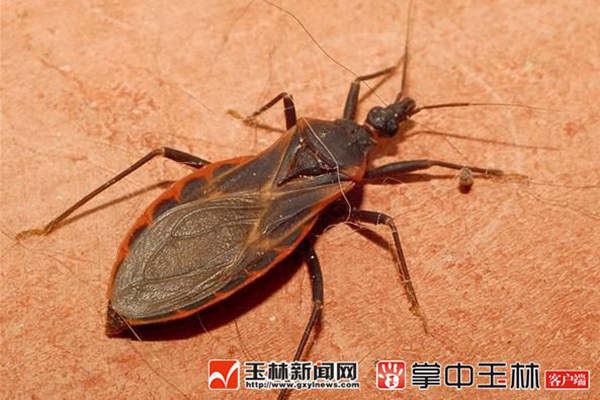chunchong: (96, 89, 452, 340)
